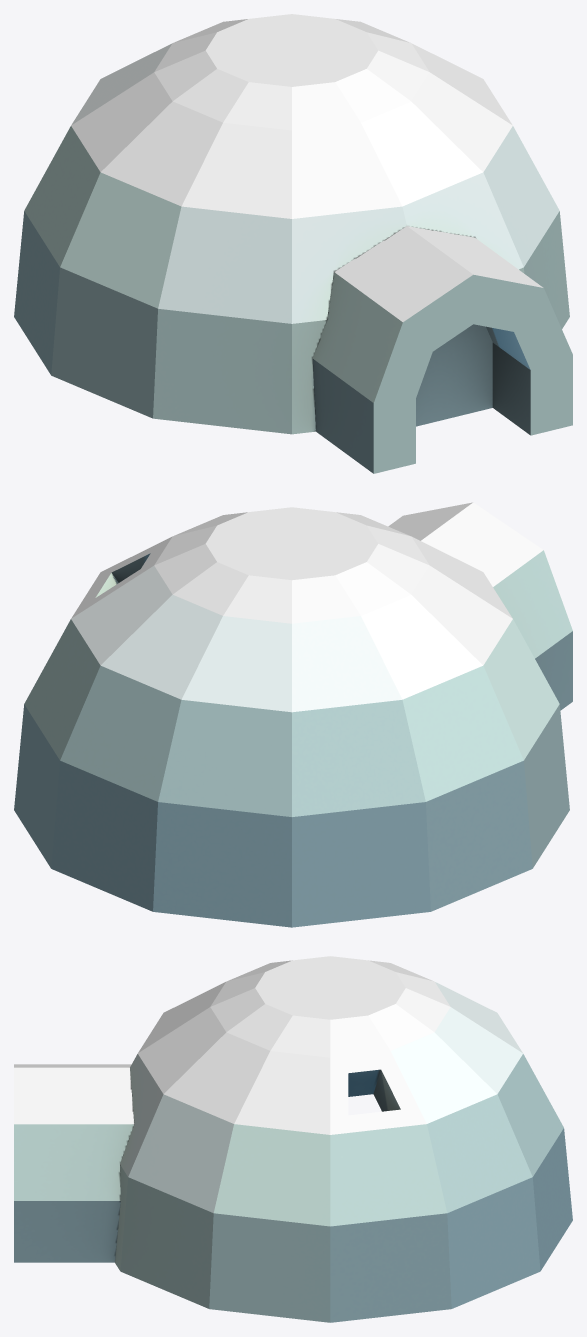
The picture shows the model from 3 angles, top to bottom: view 1: azimuth 30°, elevation 25°; view 2: azimuth 150°, elevation 25°; view 3: azimuth 270°, elevation 25°; orthographic projection. The views are drawn at different scales.
Parts seen in each view (by area): view 1: igloo; view 2: igloo; view 3: igloo.
Boxes of the visible parts, box(x1,y1,x2,y2) form: igloo: box(14, 14, 572, 473); igloo: box(14, 502, 572, 927); igloo: box(14, 956, 572, 1322).
Size of the model in its own units: 2 by 1.06 by 2.31.
1 material, 1 textured.
